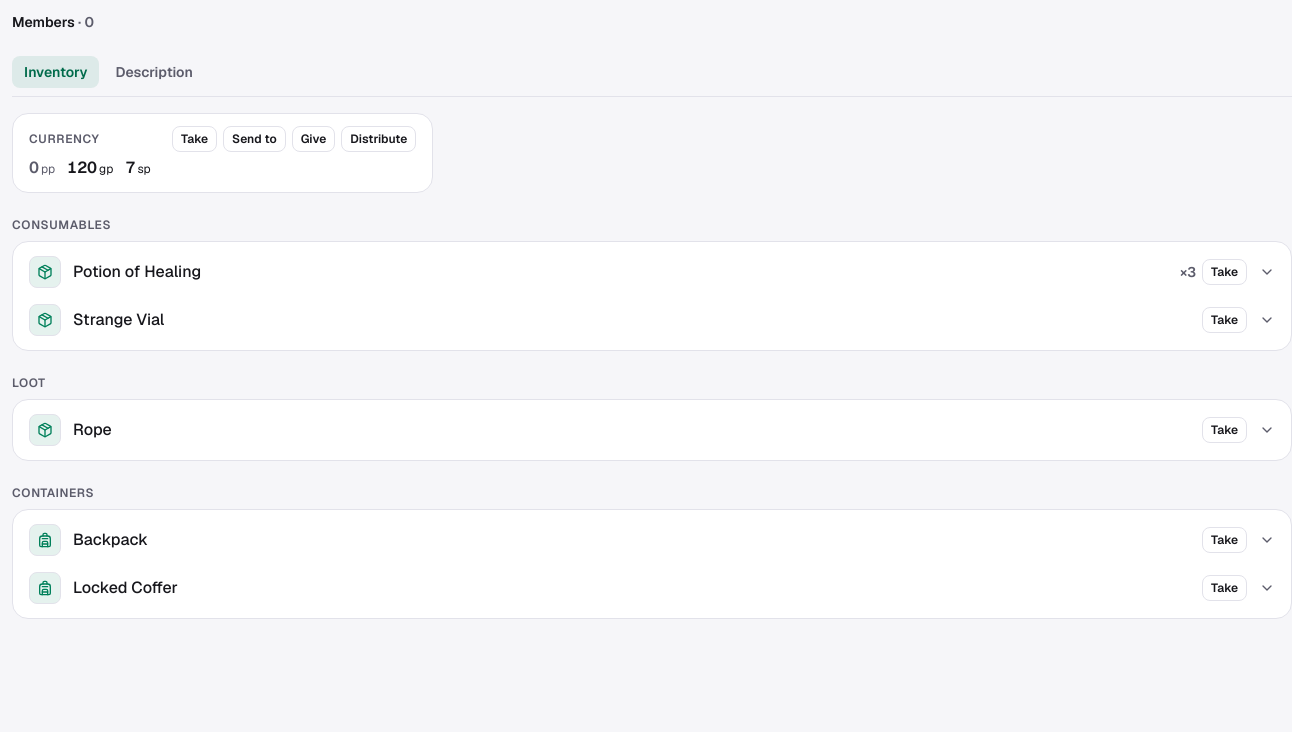
Scenario: components/character-sheet/item-menu, on a party’s sheet › closes a menu left open while the party’s things can’t be sent, and never opens it again by itself
Step 1. Right-click the heading "Rope Take" → (45, 430), box [19,406,1285,454]
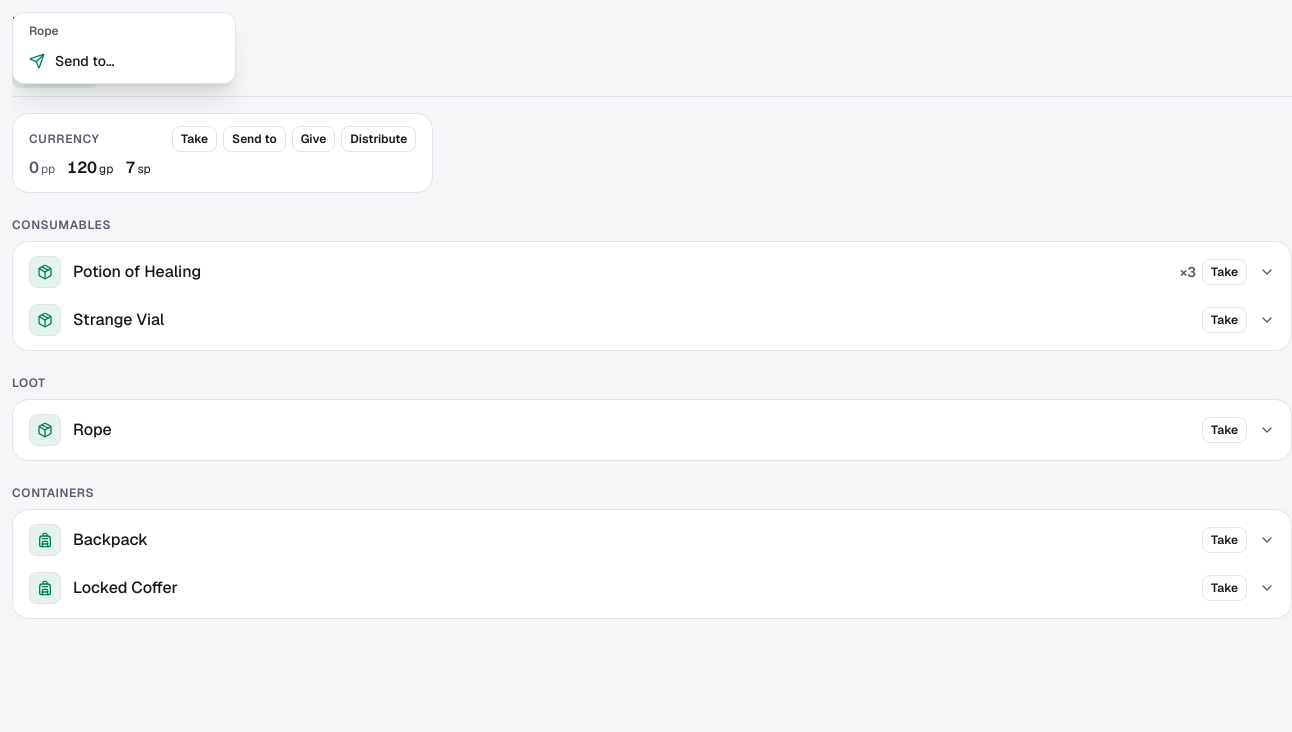
Expected: the menu "Rope" is shown, [12,12,236,84]
